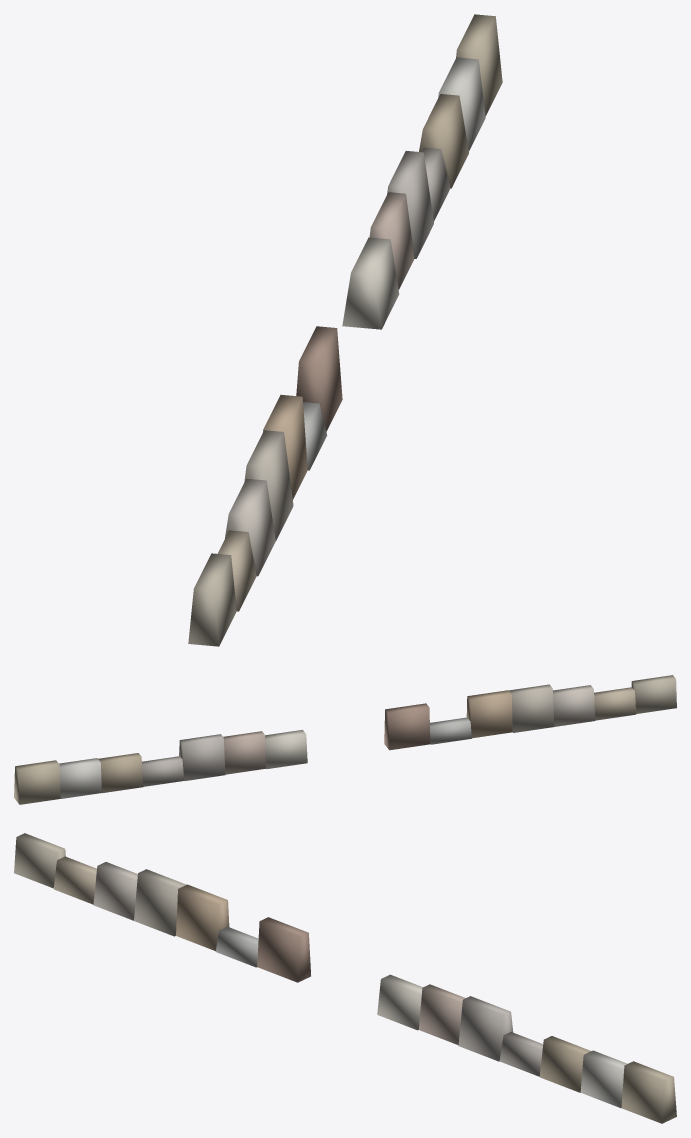
The model's file is farm_7_7_collision.glb.
The picture shows the model from 3 angles, top to bottom: view 1: azimuth 30°, elevation 25°; view 2: azimuth 150°, elevation 25°; view 3: azimuth 270°, elevation 25°; orthographic projection. The views are drawn at different scales.
Visible parts, largest first — view 1: geometry_0; view 2: geometry_0; view 3: geometry_0.
Part boxes in pixels (x1=…): geometry_0: x1=188, y1=14, x2=502, y2=646; geometry_0: x1=14, y1=675, x2=676, y2=804; geometry_0: x1=14, y1=833, x2=676, y2=1123.
Bounding box in the file's own units: 17.38 × 1.63 × 19.39.
